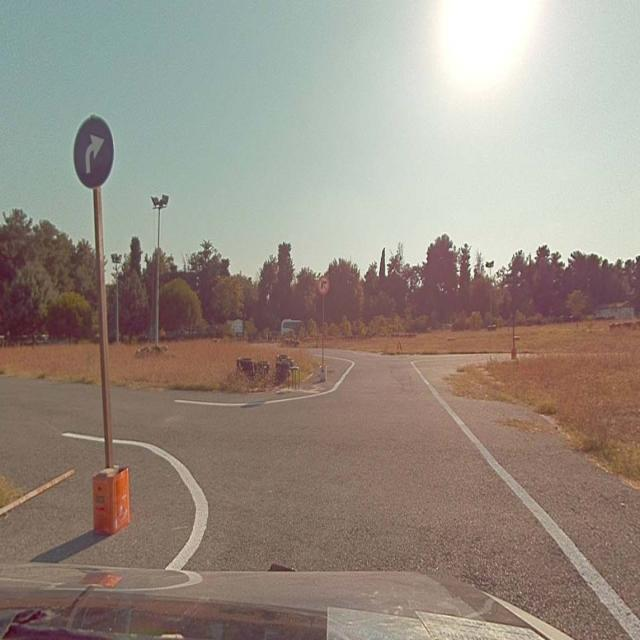sag: (74, 116, 114, 186)
sagadonulmez: (318, 278, 328, 292)
